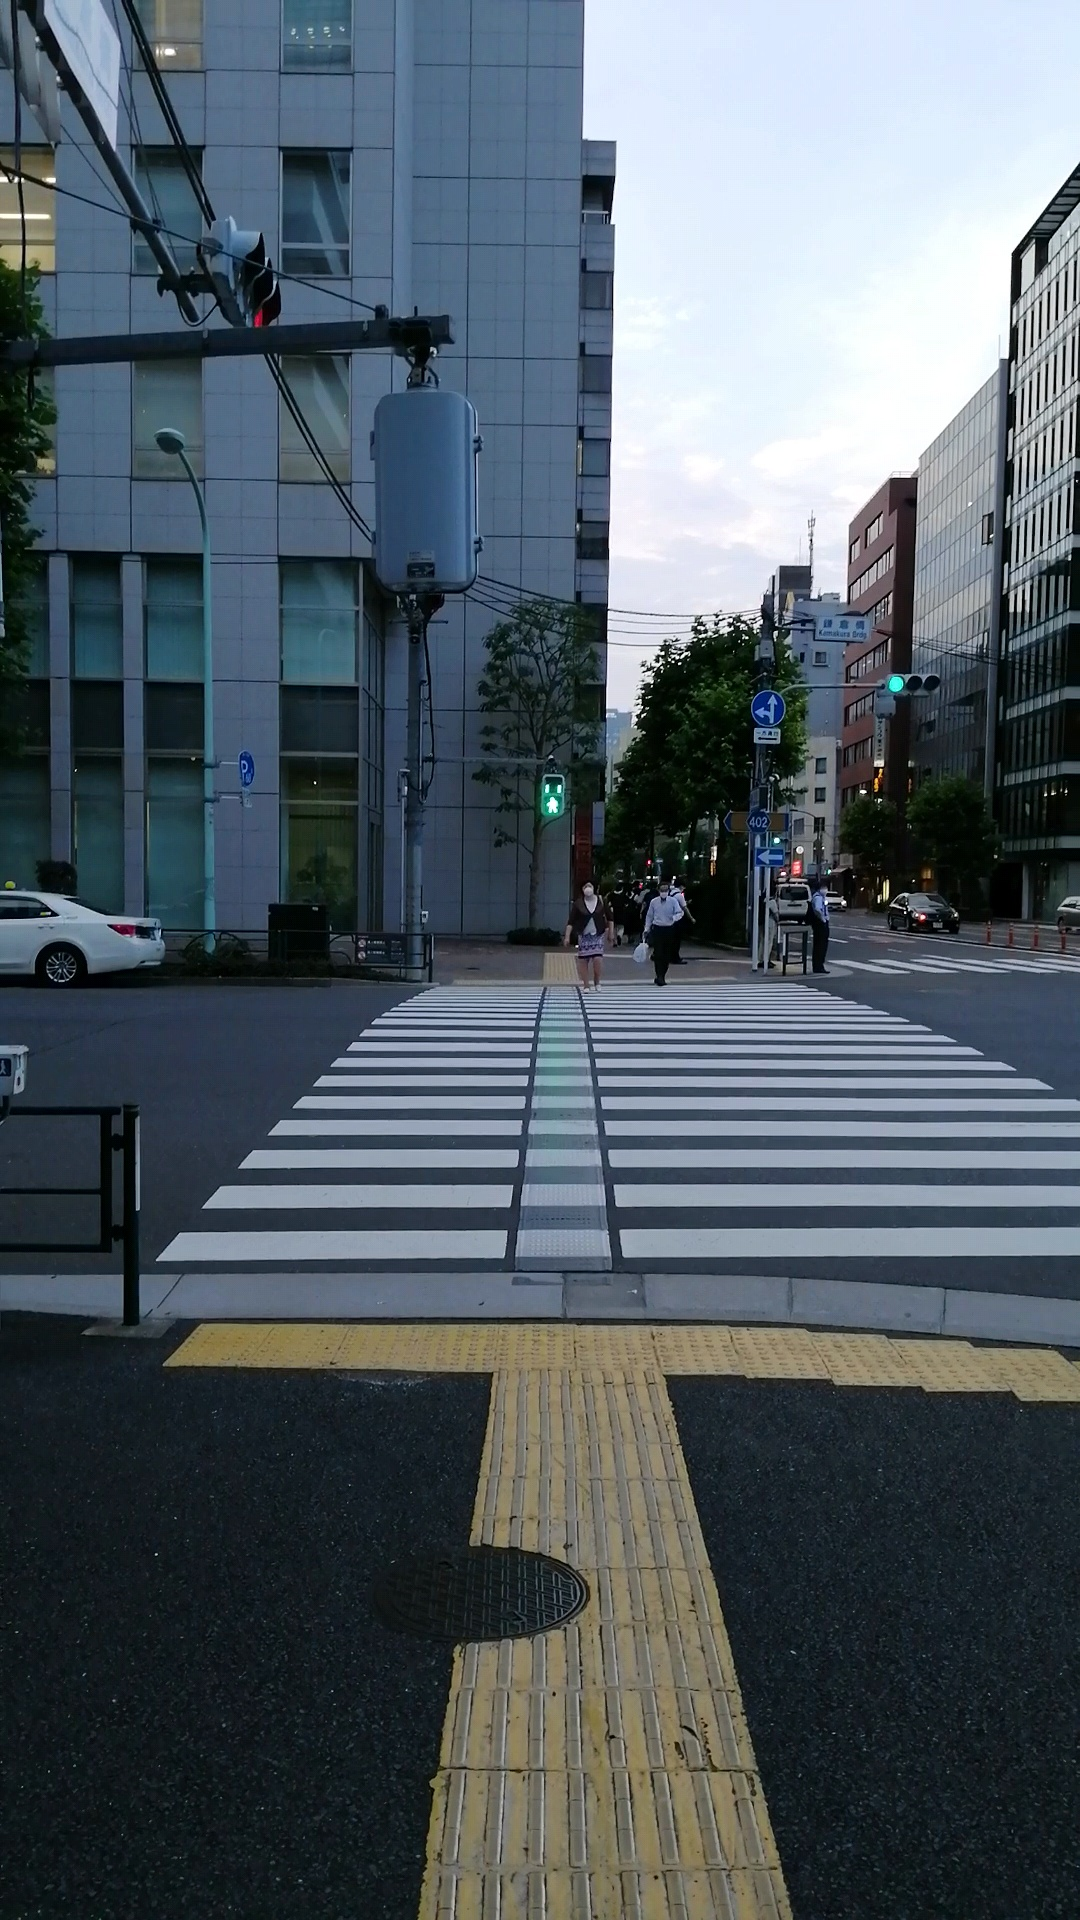green: (539, 771, 564, 818)
